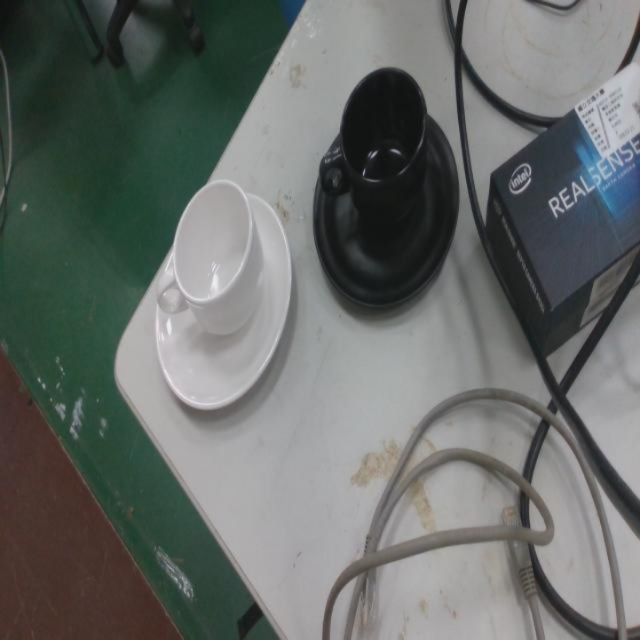black: (309, 62, 463, 315)
white: (153, 175, 294, 418)
